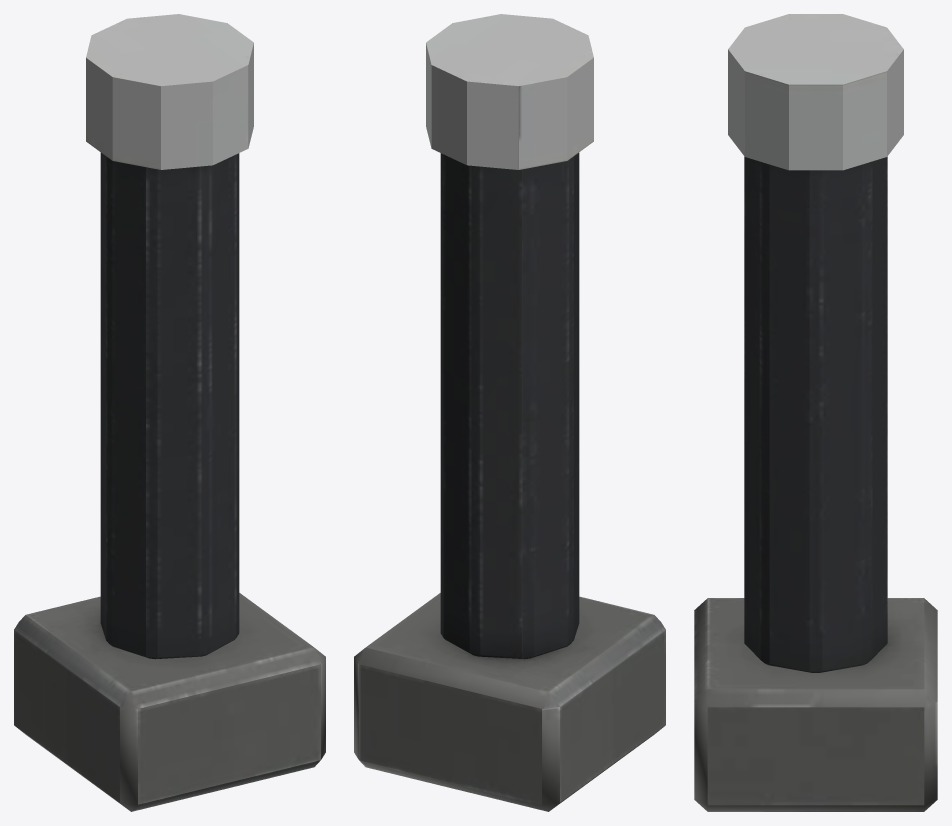
The model's file is bollard.glb.
3 renders of one model, left to right at view 1: azimuth 30°, elevation 25°; view 2: azimuth 150°, elevation 25°; view 3: azimuth 270°, elevation 25°, orthographic. The views are drawn at different scales.
Parts seen in each view (by area): view 1: bollard; view 2: bollard; view 3: bollard.
Part boxes in pixels (box(x1,y1,x2,y2)): bollard: box(14, 14, 325, 811); bollard: box(354, 14, 665, 811); bollard: box(694, 14, 937, 811).
Bounding box in the file's own units: 0.36 × 1.17 × 0.36.
1 material, 1 textured.
